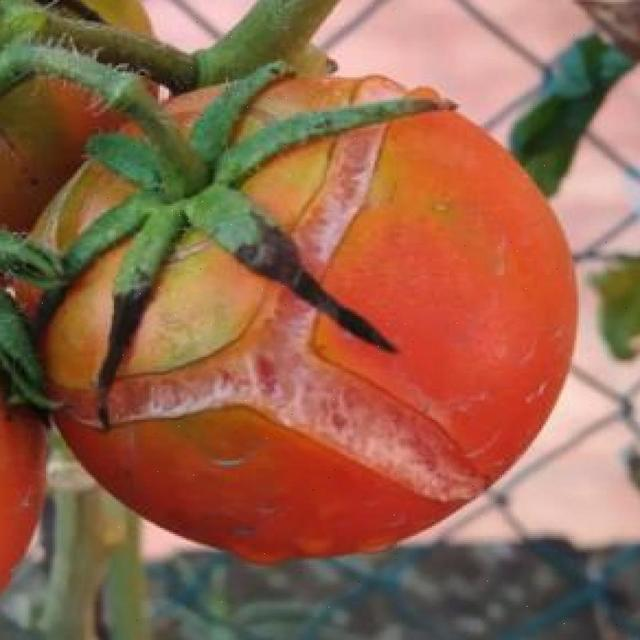Cracking Fruit: (31, 48, 350, 350)
